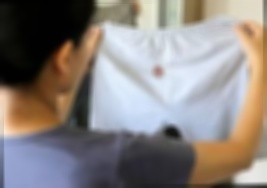blood: (152, 64, 166, 80)
